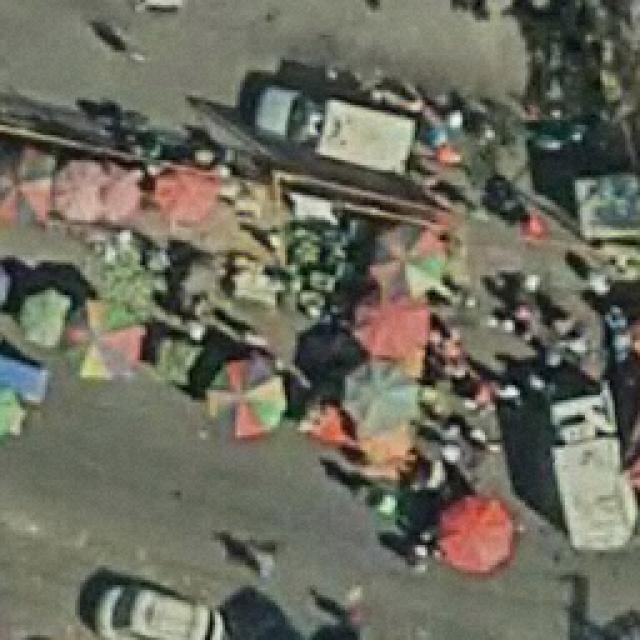vendedor_ambulante: (61, 296, 151, 382), (431, 490, 522, 575), (204, 351, 290, 437), (371, 219, 449, 299), (340, 358, 422, 432), (350, 288, 432, 356), (0, 146, 61, 231), (48, 158, 116, 222), (15, 284, 75, 356), (152, 164, 220, 222), (0, 382, 31, 441)
